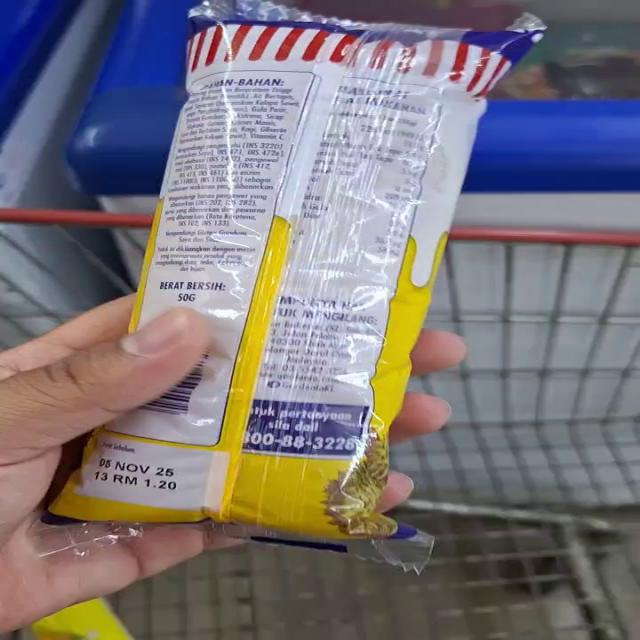Roti: (70, 217, 450, 581), (169, 3, 529, 299)
